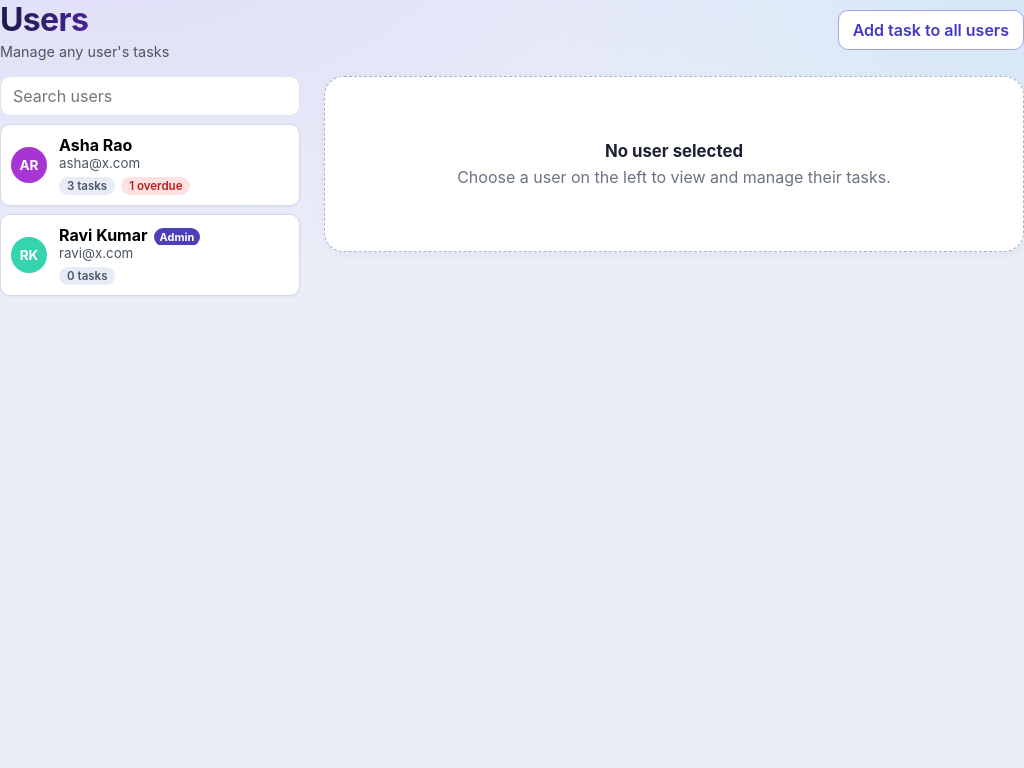
Test case: AdminPanel › hides the task at once and deletes it after the undo window
What coordinates should you click on to do the following:
click the button "AR Asha Rao asha@x.com 3 tasks 1 overdue"
I would click on:
 (29, 165)
Its box is [0, 124, 300, 206].
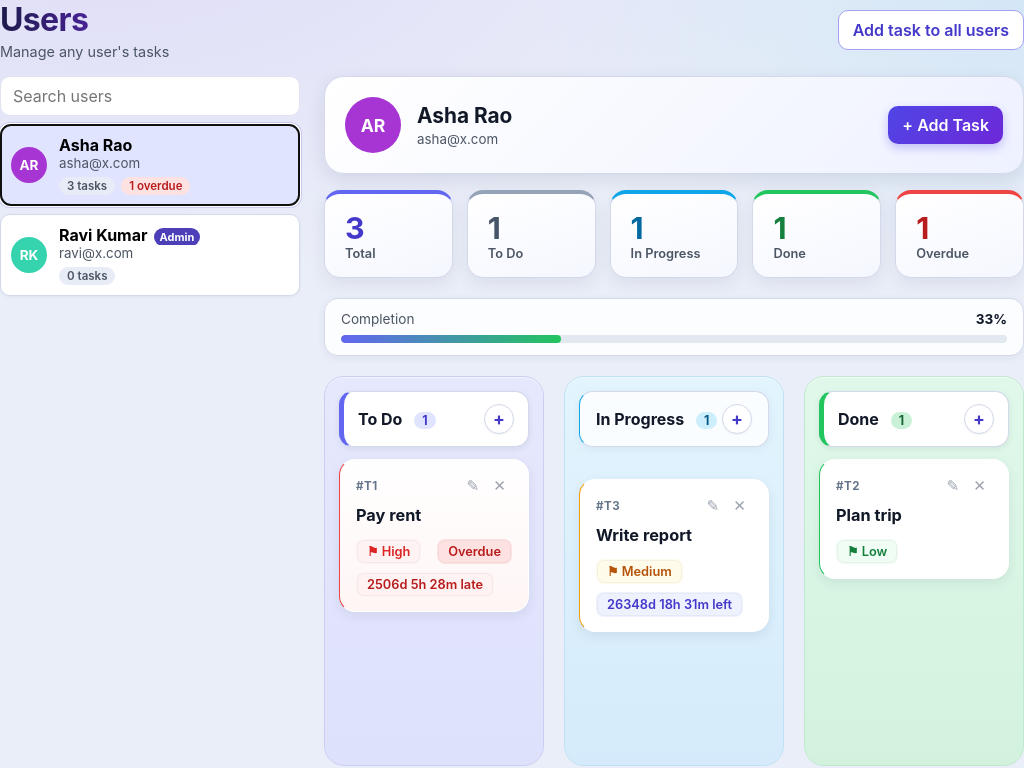
What coordinates should you click on to do the following:
click the button named "Delete task"
I would click on:
 (500, 486)
Its box is [487, 474, 512, 497].
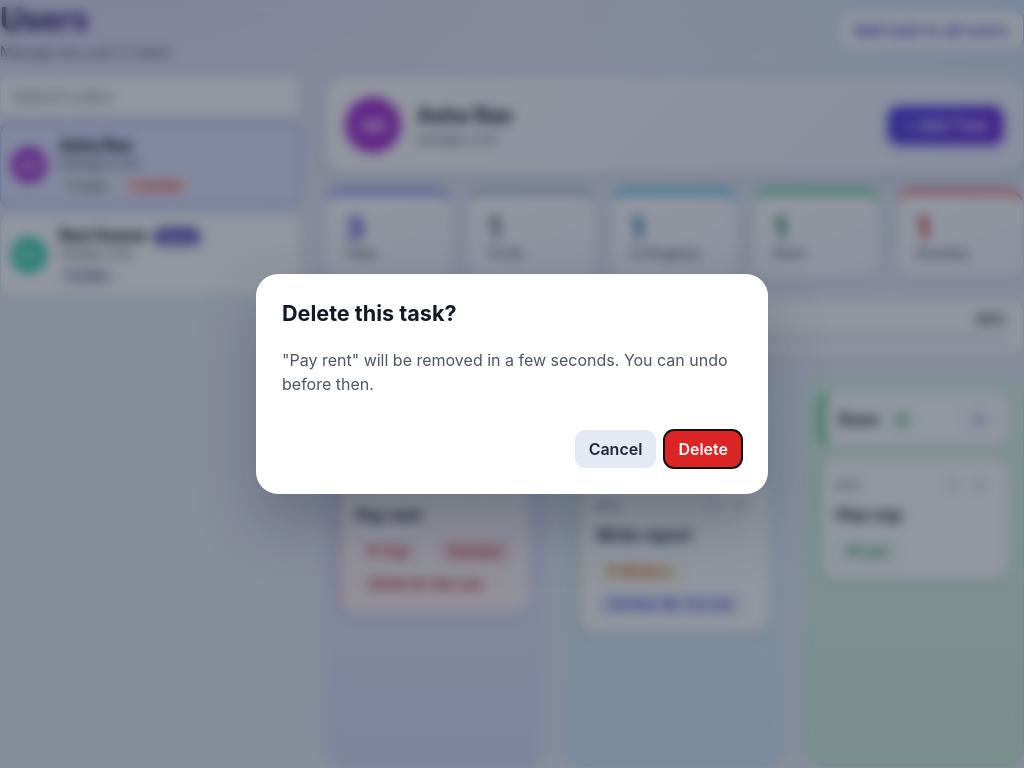
Expected: the text "\"Pay rent\" will be removed" is shown, [282, 350, 728, 394]
What coordinates should you click on to do the following:
click the button "Delete"
I would click on:
 (703, 449)
Its box is [664, 430, 742, 468].
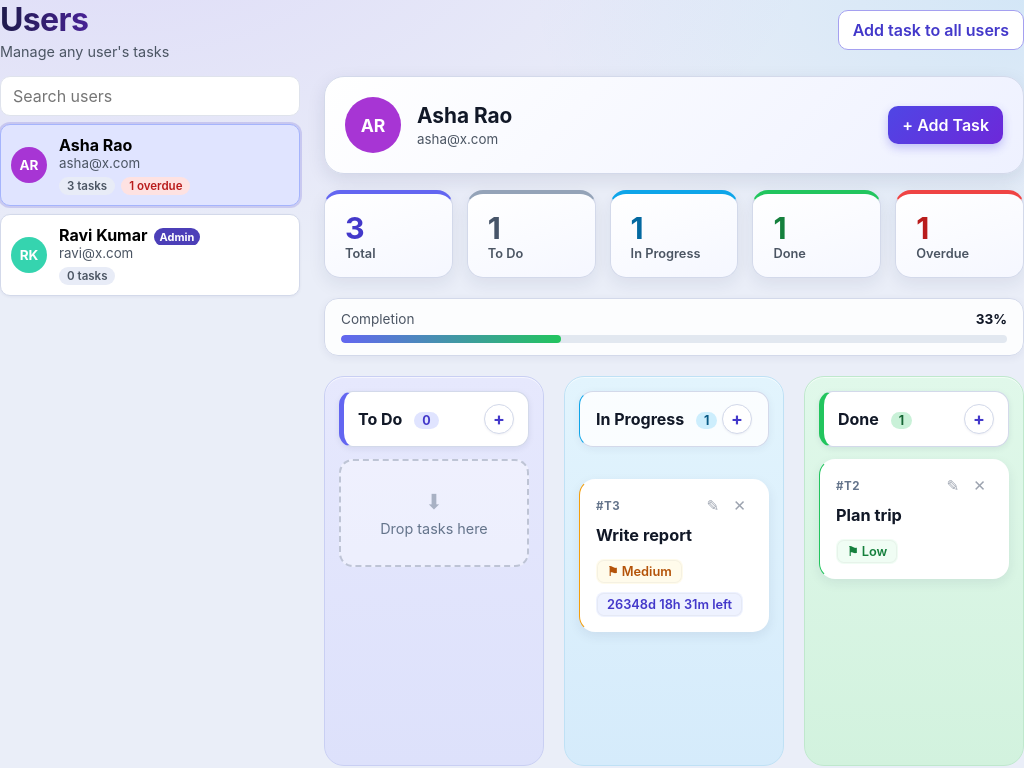
Expected: the heading "Pay rent" is gone
